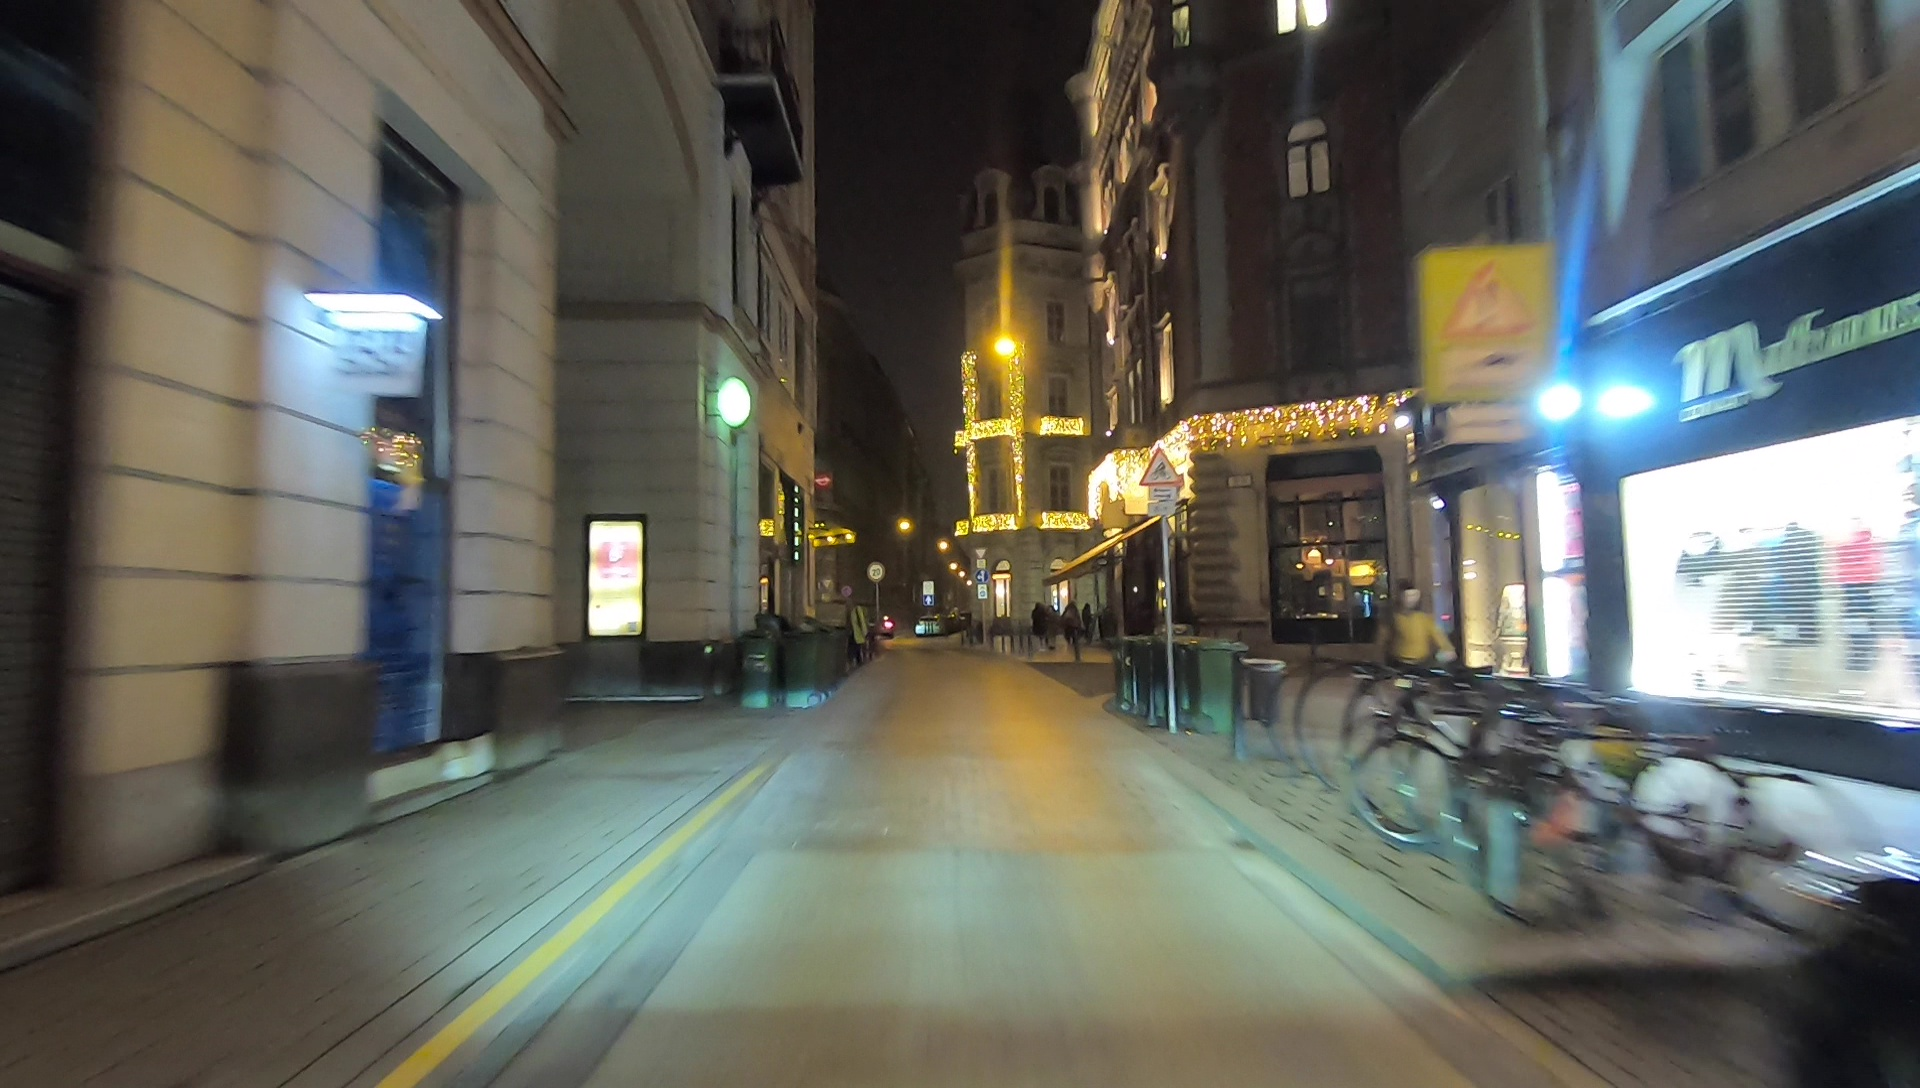person: (1376, 582, 1449, 721), (1082, 599, 1097, 645), (1065, 600, 1080, 643), (1030, 599, 1045, 637)
